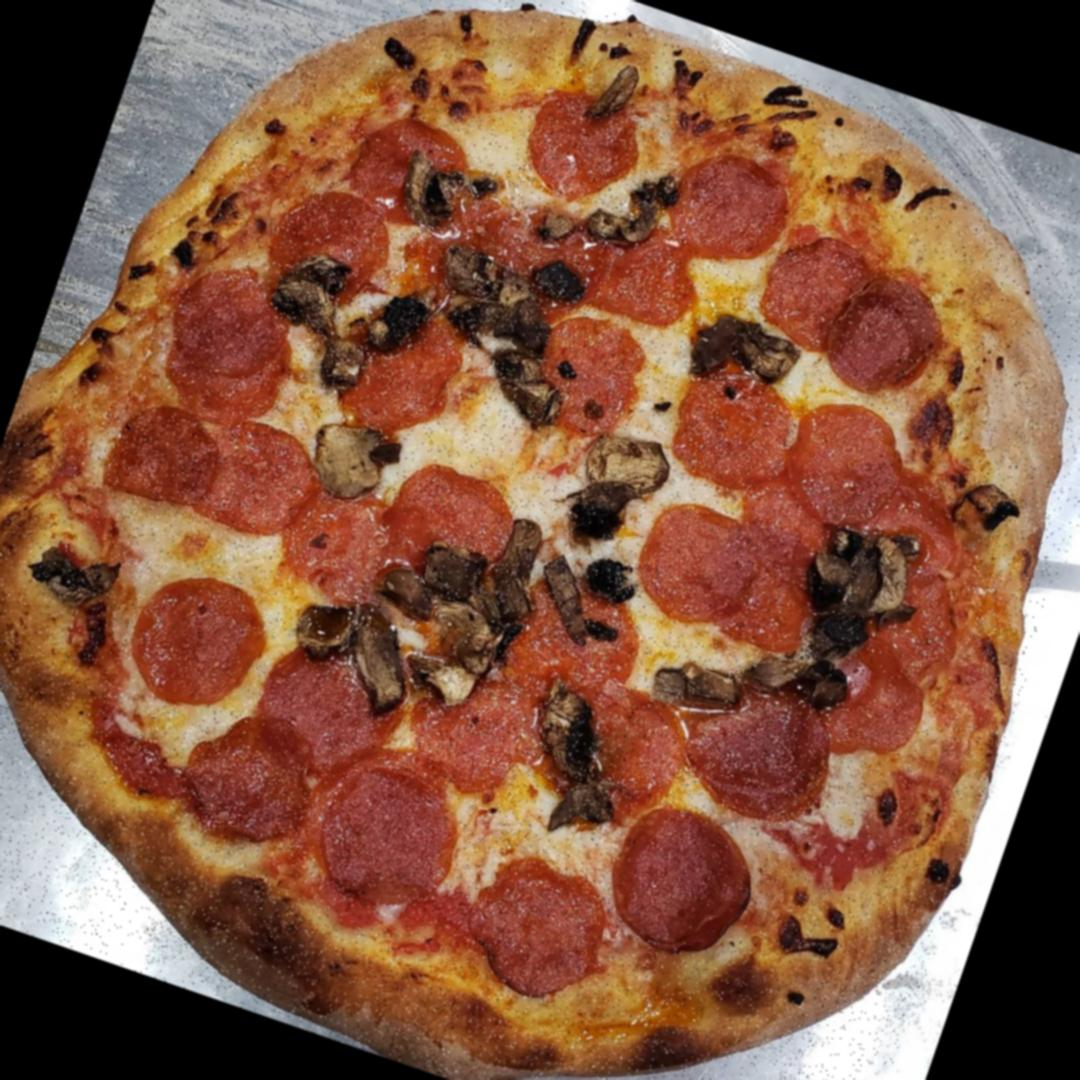Mushroom: (753, 506, 922, 720), (278, 596, 424, 722), (555, 422, 680, 563), (426, 234, 570, 349), (688, 302, 808, 394), (297, 414, 406, 514), (475, 345, 574, 435), (269, 247, 357, 334), (395, 152, 476, 232)
Pepperoni: (676, 663, 851, 838), (301, 750, 474, 920), (597, 799, 769, 966), (246, 628, 414, 790), (115, 561, 278, 725), (542, 676, 705, 834), (167, 702, 328, 860), (323, 288, 476, 452), (454, 861, 620, 1011), (398, 660, 559, 811), (824, 454, 984, 604), (273, 480, 434, 626), (771, 389, 920, 540), (496, 568, 648, 714), (628, 495, 770, 637), (661, 361, 807, 498), (258, 177, 402, 315), (816, 266, 954, 410), (752, 222, 889, 364), (162, 253, 302, 390), (812, 630, 942, 776), (658, 142, 796, 276), (202, 415, 332, 552), (382, 457, 522, 584), (524, 309, 654, 443), (99, 393, 234, 521), (518, 87, 650, 212), (850, 560, 973, 694), (342, 105, 472, 227), (722, 478, 842, 590), (715, 564, 820, 658)
Pizza: (0, 0, 1080, 1080)
